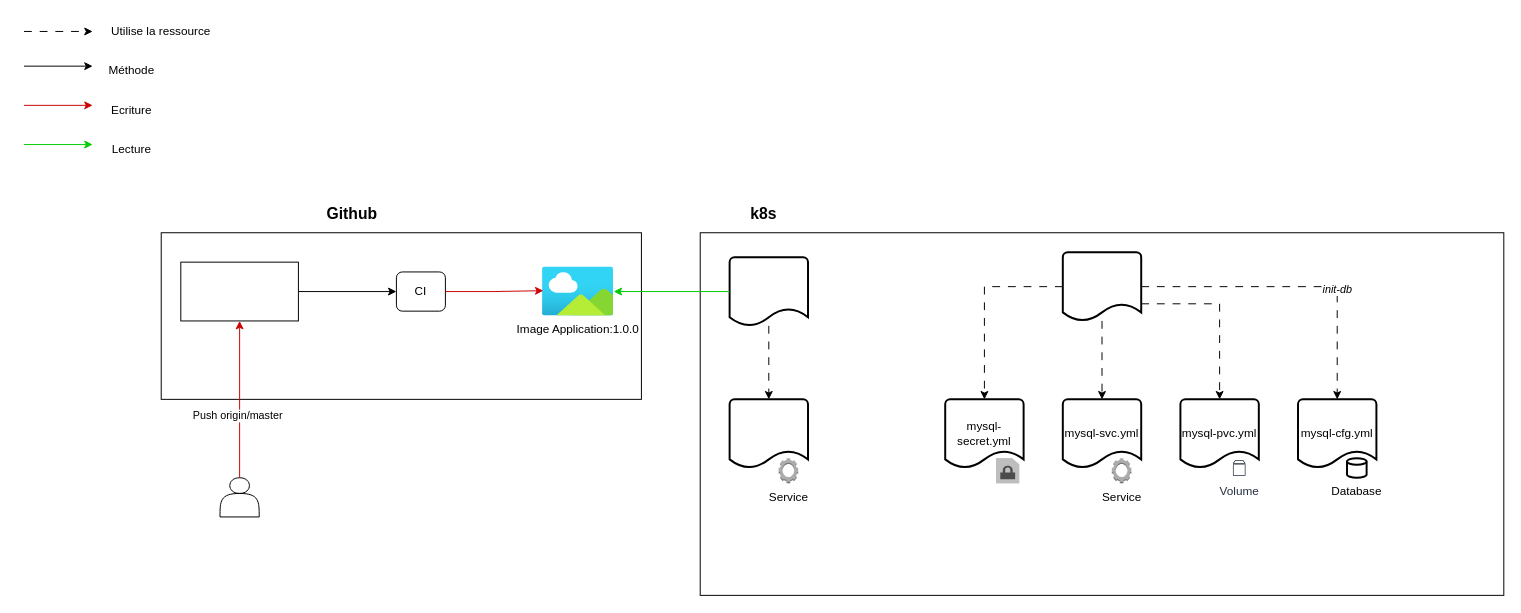
This 1521x613 diagram has some shape labels left out. Here are the shapes that lost their labels. From the top down, the centre of each, then its label:
At (239,291): "Application".
At (768,291): "chat-dep.yml".
At (1101,286): "mysql-dep.yml".
At (768,433): "chat-svc.yml".
At (1007,470): "Secret".
